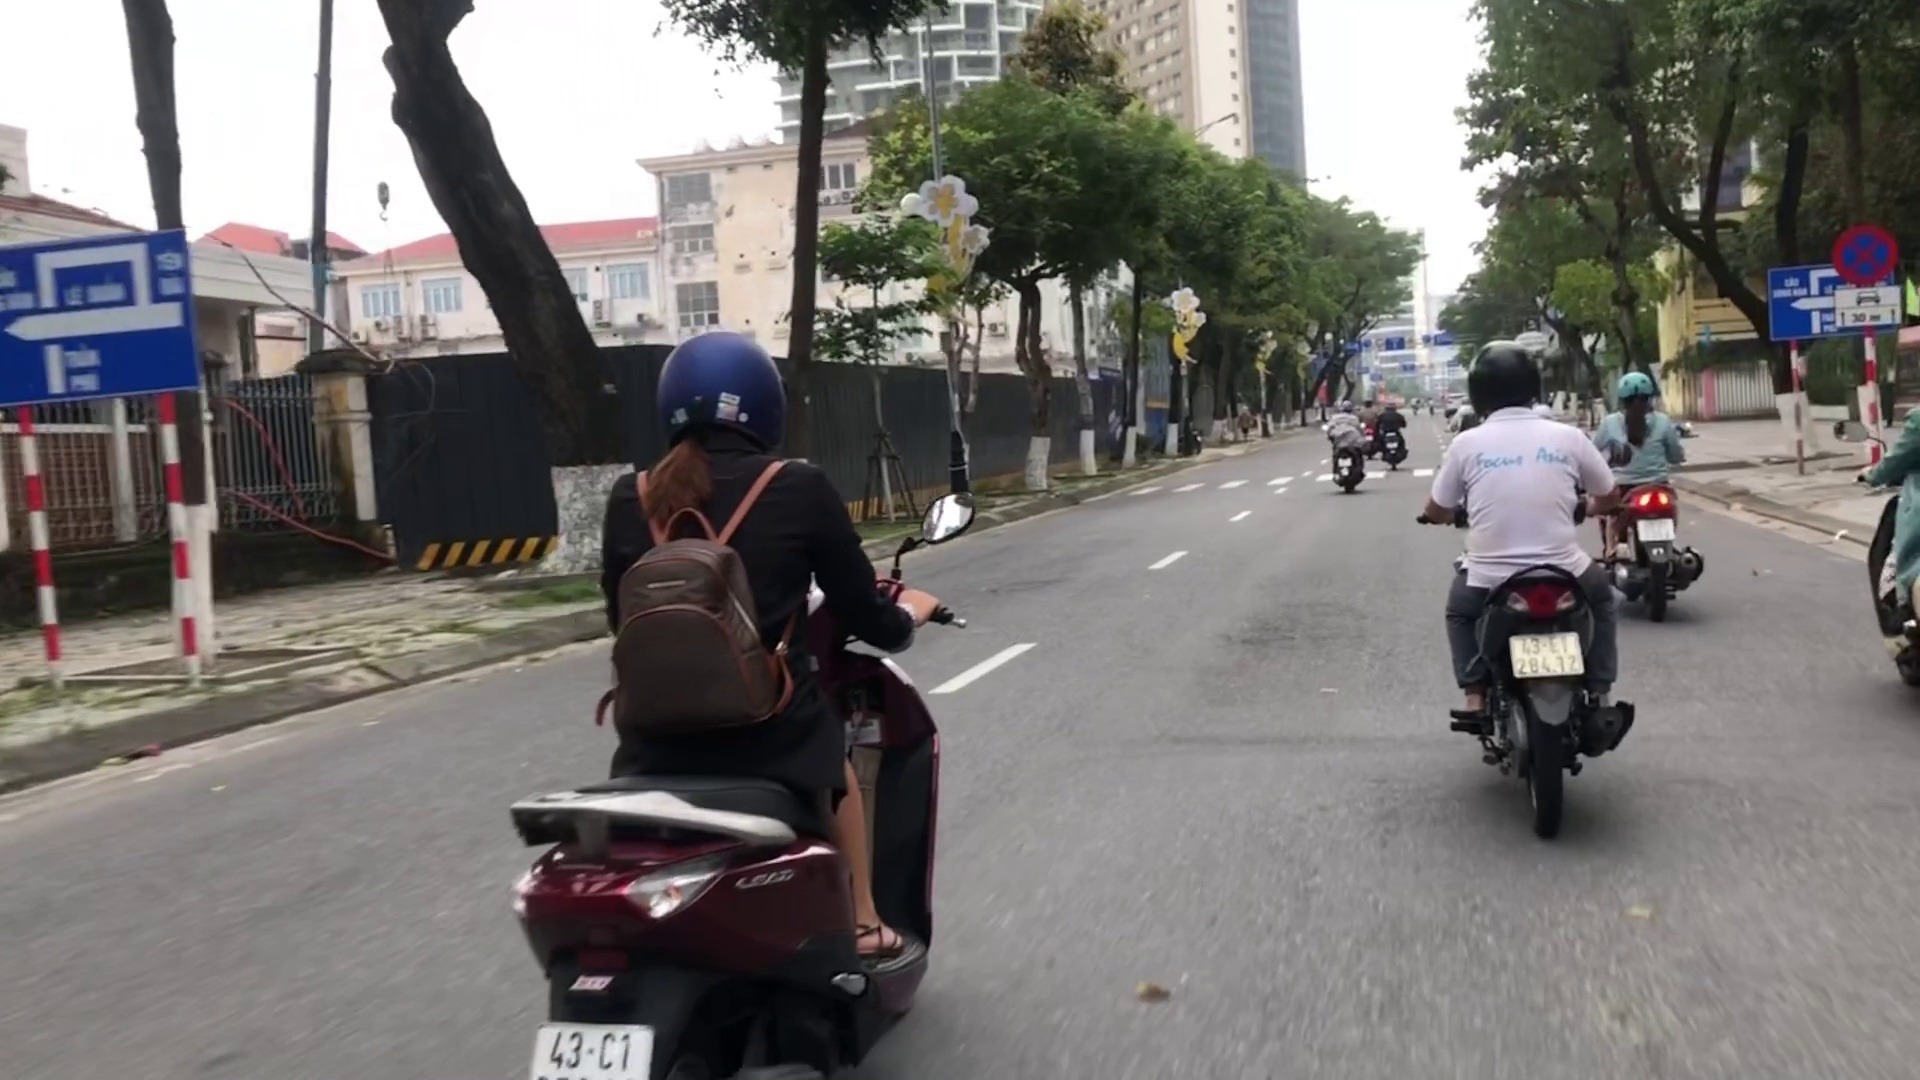Bien khac: (0, 237, 198, 411), (1832, 225, 1899, 291)
